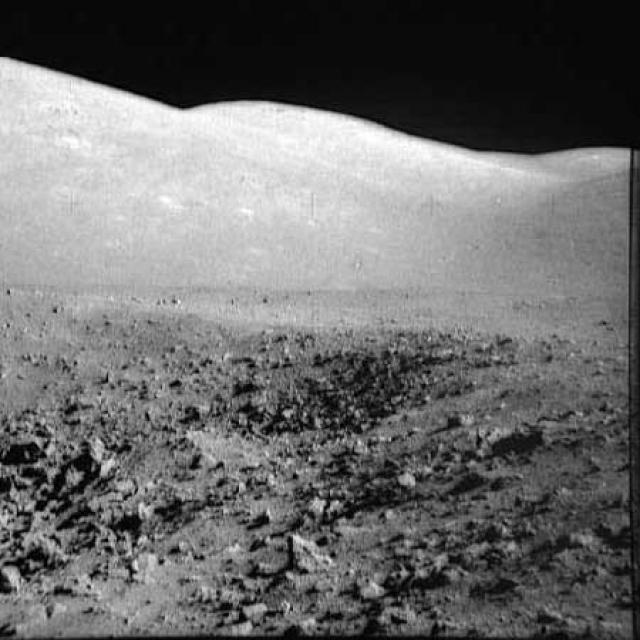crater: (189, 356, 436, 448)
rock: (279, 526, 336, 573), (78, 429, 118, 478), (20, 537, 66, 572), (10, 430, 58, 463)
